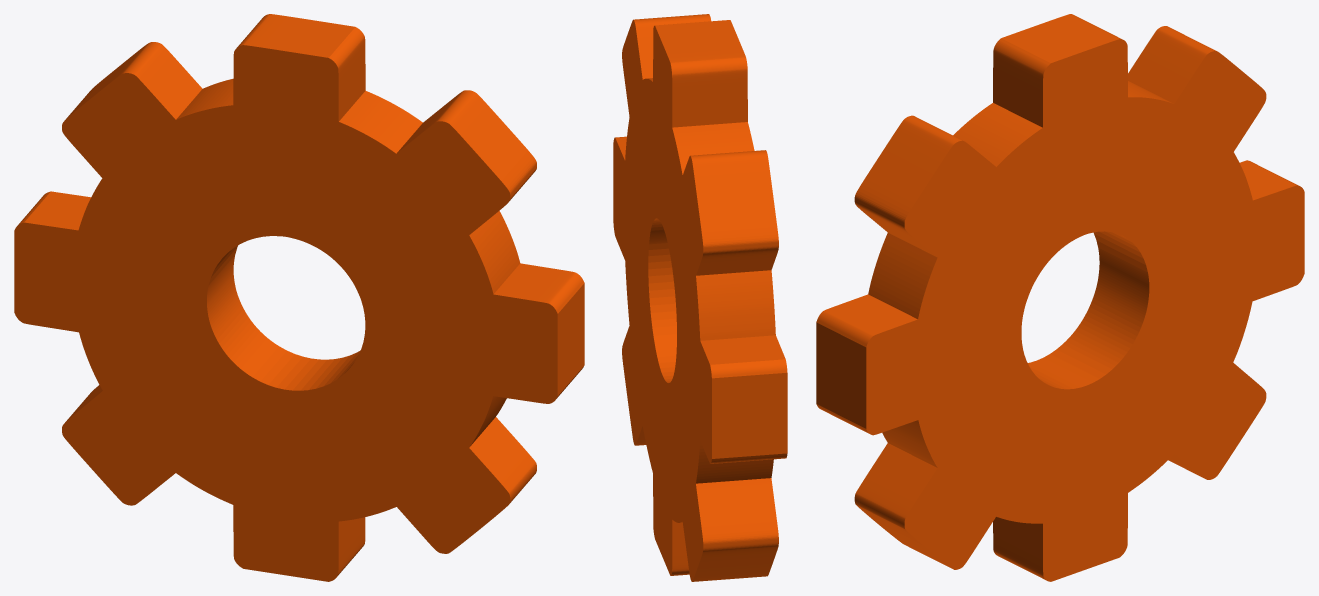
The model's file is shesterenka2.glb.
3 views of the same model, side by side, from view 1: azimuth 30°, elevation 25°; view 2: azimuth 150°, elevation 25°; view 3: azimuth 270°, elevation 25° (orthographic). The views are drawn at different scales.
Parts seen in each view (by area): view 1: Curve; view 2: Curve; view 3: Curve.
Boxes of the visible parts, x1,y1,x2,y2 form: Curve: (14,14,584,581); Curve: (613,14,787,581); Curve: (816,14,1304,581).
Size of the model in its own units: 0.1188 by 0.1592 by 0.1358.
